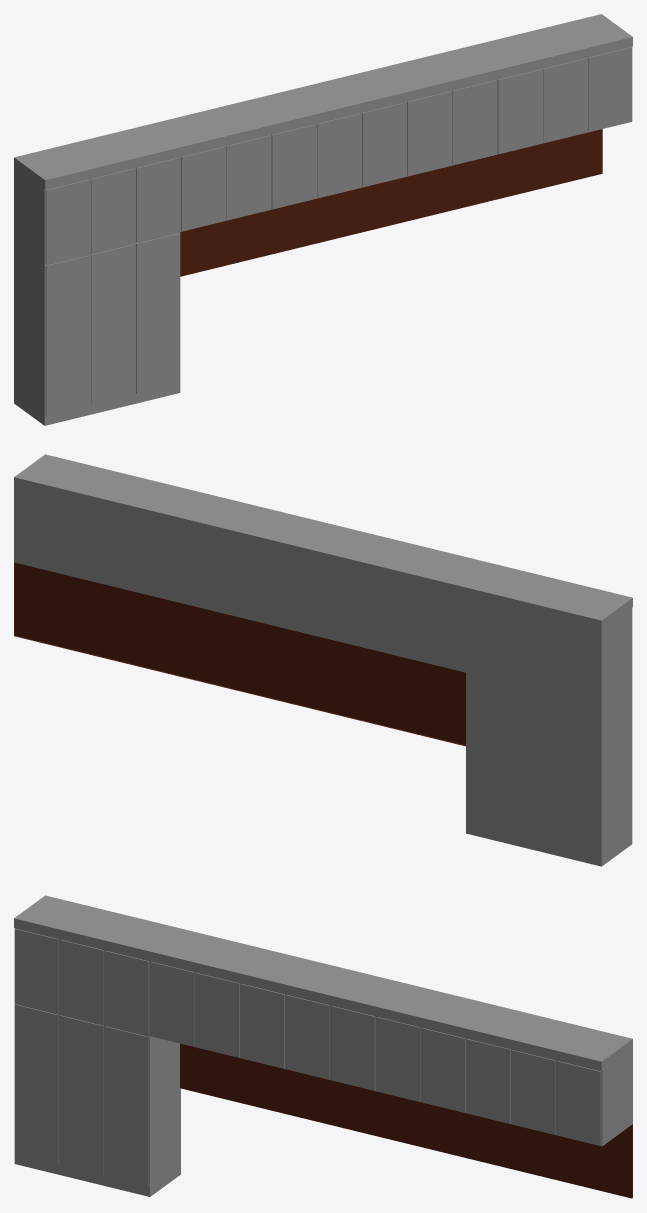
The model's file is Kitchen cabinets.fbx.
3 renders of one model, top to bottom at view 1: azimuth 30°, elevation 25°; view 2: azimuth 150°, elevation 25°; view 3: azimuth 330°, elevation 25°, orthographic.
Visible parts, largest first — view 1: Kitchen cabinets; view 2: Kitchen cabinets; view 3: Kitchen cabinets.
Part boxes in pixels (<box>): Kitchen cabinets: <box>14,14,632,425</box>; Kitchen cabinets: <box>14,454,632,866</box>; Kitchen cabinets: <box>14,895,632,1198</box>.
Size of the model in its own units: 6500 by 2600 by 600.
